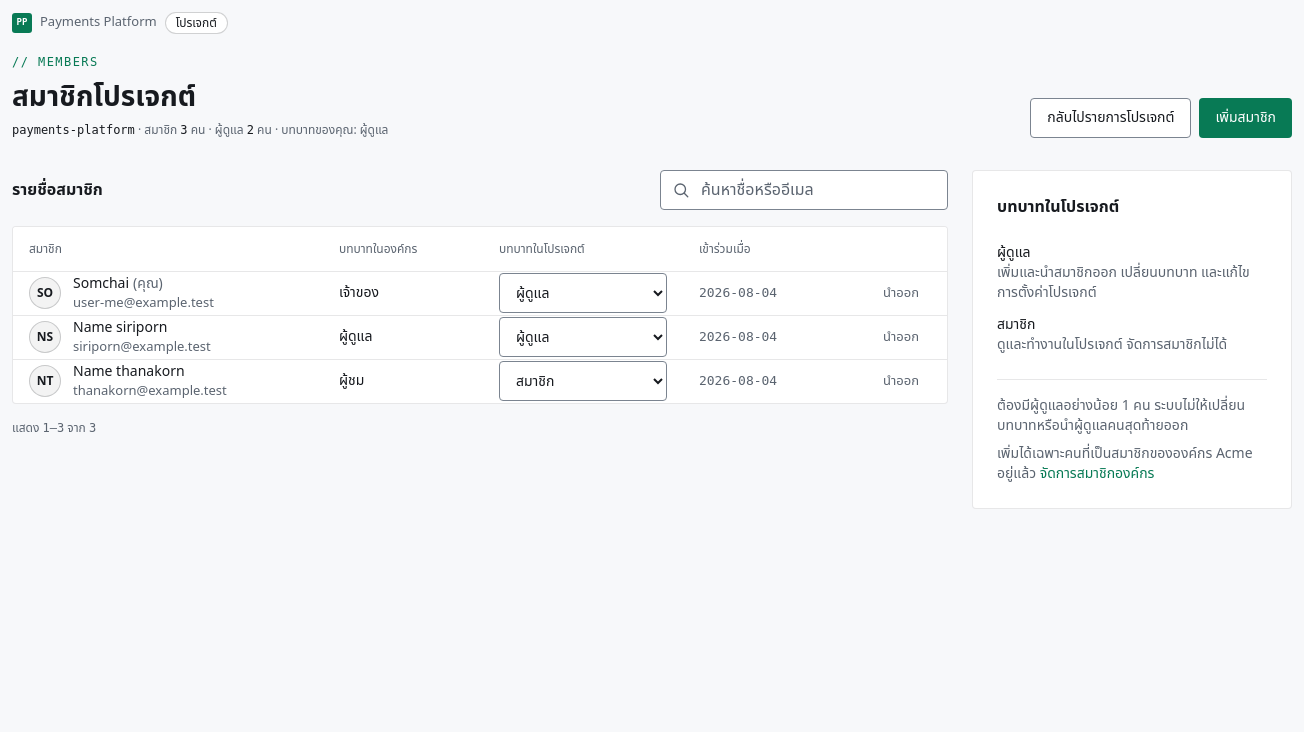
Test: role change (AC-05) › sends the chosen role and shows the persisted result
The width and height of the screenshot is (1304, 732).
Expected: the element with test id "project-members-table" is shown, left=12, top=226, right=948, bottom=404
Select "ผู้ดูแล" in the dropdown with test id "project-member-role-select". click: (583, 381)
box: left=499, top=361, right=667, bottom=401
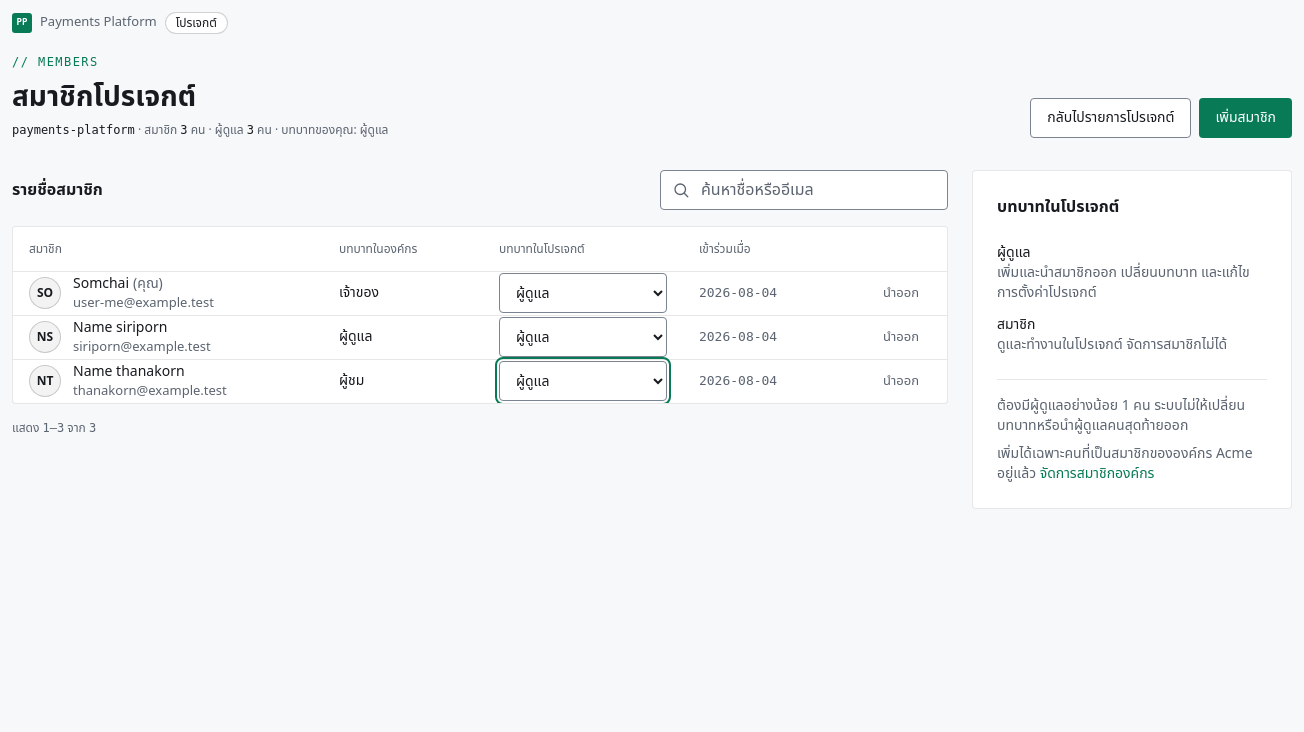
Expected: the text with test id "project-admin-count" reads "3", left=247, top=123, right=254, bottom=137
